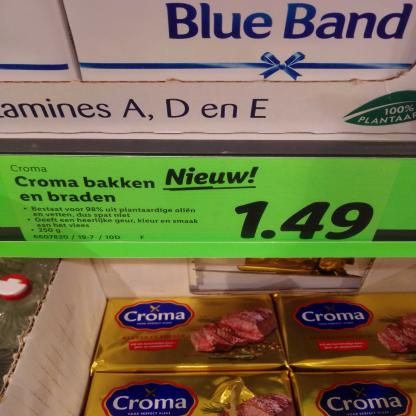prtg: (1, 154, 401, 243)
